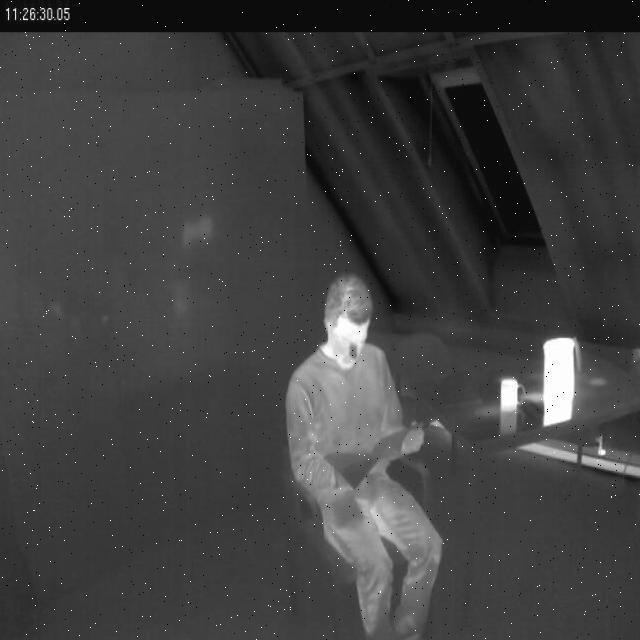person: (284, 265, 452, 640)
